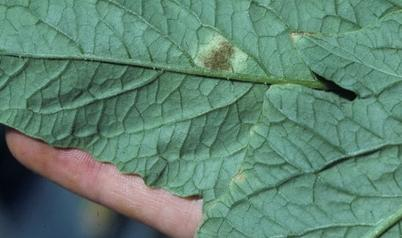Tomato mold leaf: (0, 0, 402, 209), (162, 0, 402, 238)
